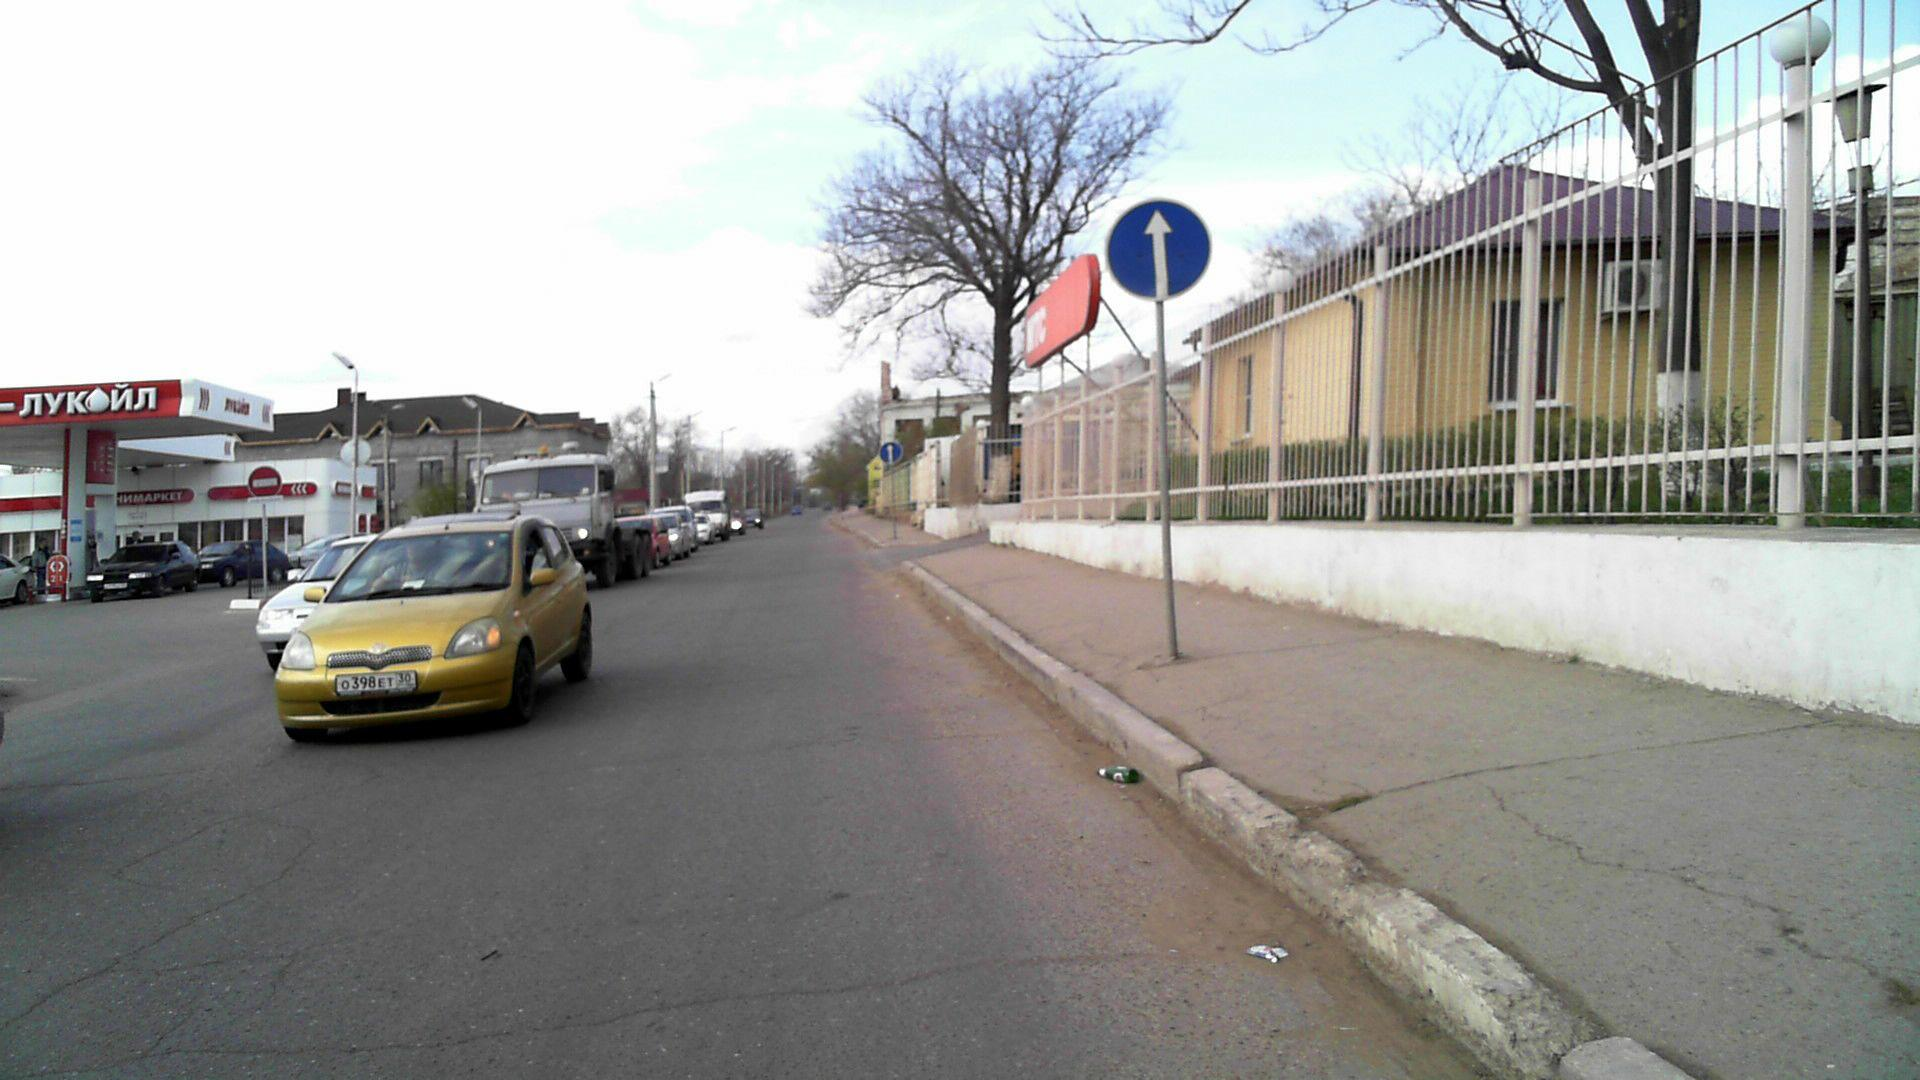3_1: (245, 463, 284, 500)
4_1_1: (1106, 194, 1215, 302), (878, 442, 901, 467)
